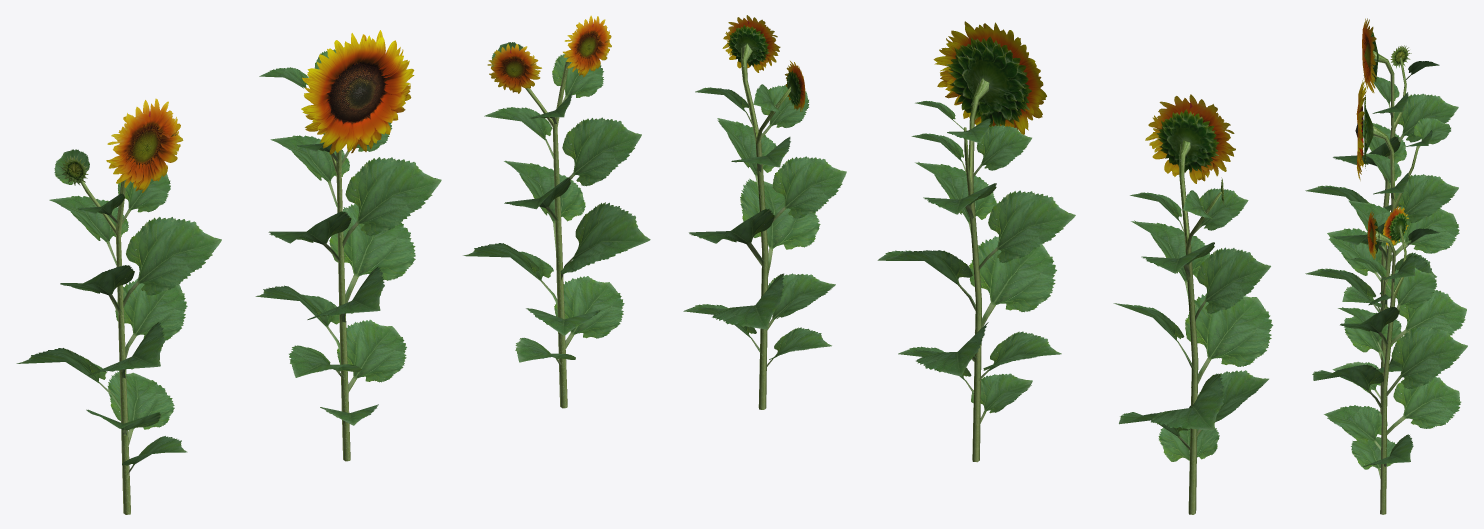
Rendered from sunflower.FBX.
3 views of the same model, side by side, from view 1: azimuth 30°, elevation 25°; view 2: azimuth 150°, elevation 25°; view 3: azimuth 270°, elevation 25° (orthographic). The views are drawn at different scales.
Visible parts, largest first — view 1: sunflower_A, sunflower_B, sunflower_C; view 2: sunflower_A, sunflower_B, sunflower_C; view 3: sunflower_C, sunflower_A, sunflower_B.
Boxes of the visible parts, bbox=[...] form: sunflower_A: bbox=[255, 30, 441, 461]; sunflower_B: bbox=[16, 98, 221, 514]; sunflower_C: bbox=[463, 15, 650, 408]; sunflower_A: bbox=[877, 21, 1075, 462]; sunflower_B: bbox=[1113, 94, 1273, 514]; sunflower_C: bbox=[683, 15, 846, 409]; sunflower_C: bbox=[1312, 205, 1467, 514]; sunflower_A: bbox=[1305, 78, 1466, 414]; sunflower_B: bbox=[1305, 18, 1459, 311].
Bounding box in the file's own units: 178 × 131 × 57.03.
